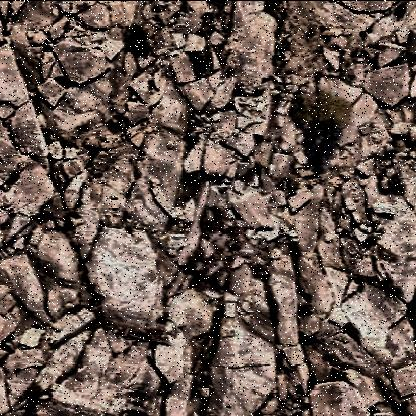tree-top: (304, 88, 355, 145)
